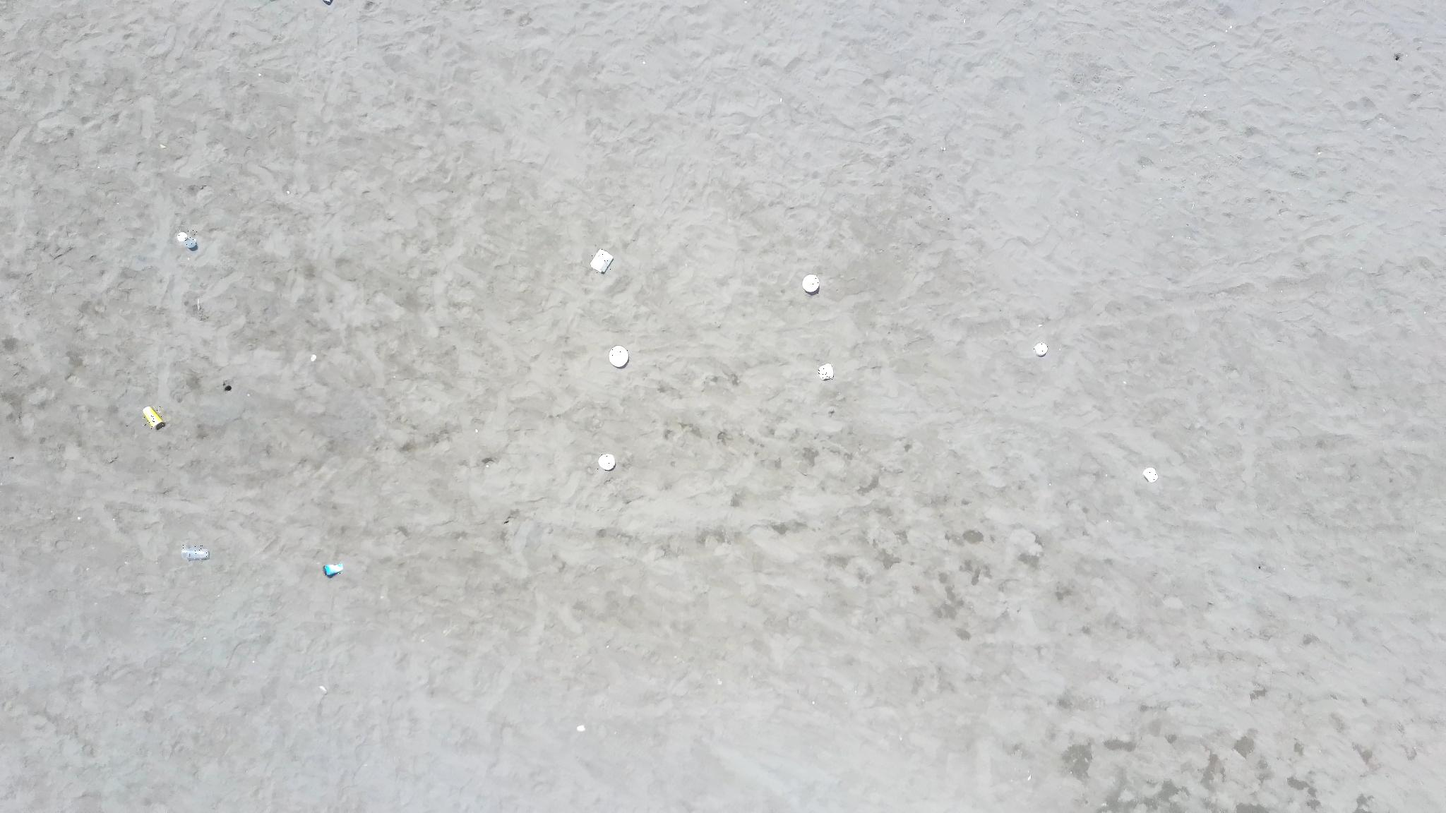Garbage: (590, 248, 613, 272), (143, 406, 165, 429), (175, 231, 198, 251), (609, 346, 627, 367), (182, 547, 210, 560), (802, 274, 820, 294), (323, 563, 342, 577), (598, 454, 615, 469), (818, 363, 833, 379), (1142, 467, 1157, 481), (184, 237, 198, 251), (1033, 343, 1046, 356), (175, 231, 188, 243), (223, 380, 231, 390), (576, 724, 585, 731), (318, 685, 326, 692), (322, 0, 331, 5), (310, 354, 316, 361)
